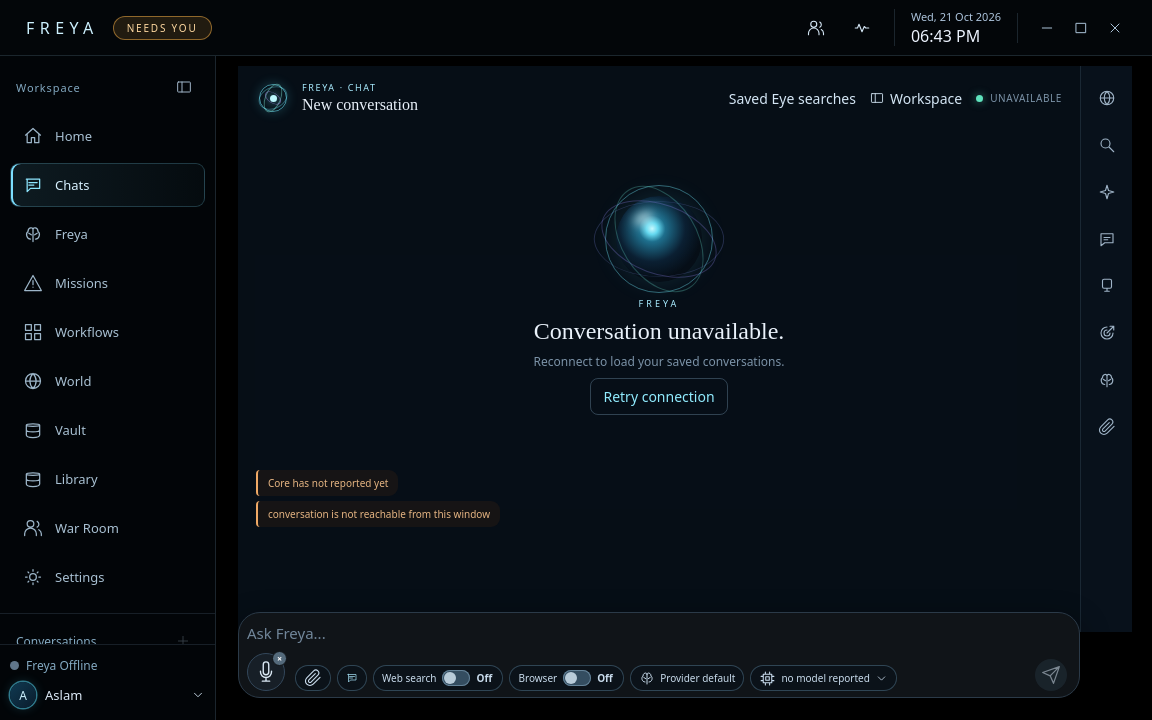
the shipping primary destinations › keeps chat draft and the eight-icon right rail across workspace changes
In the text box labelled "Ask Freya": (657, 633) [247,619,1067,647], type "Keep this thought"
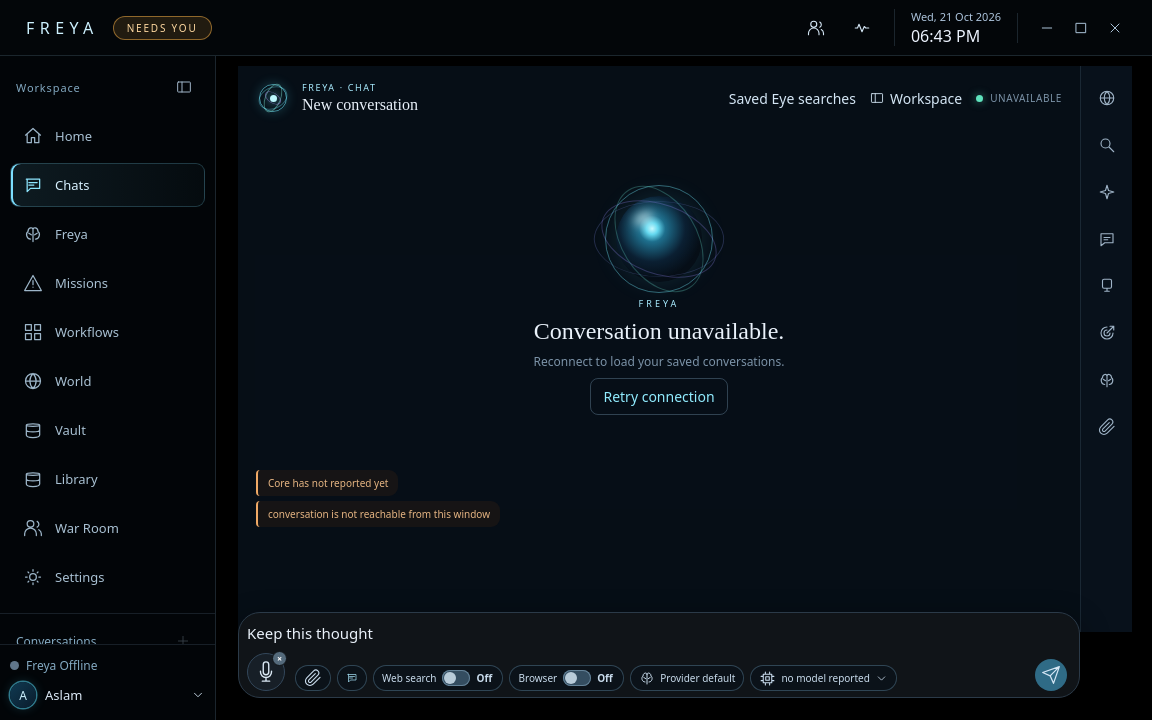
Expected: the tab named "Browser" is disabled, [1086,78,1126,118]
Click the button "Missions": click(108, 283) [10,261,205,305]
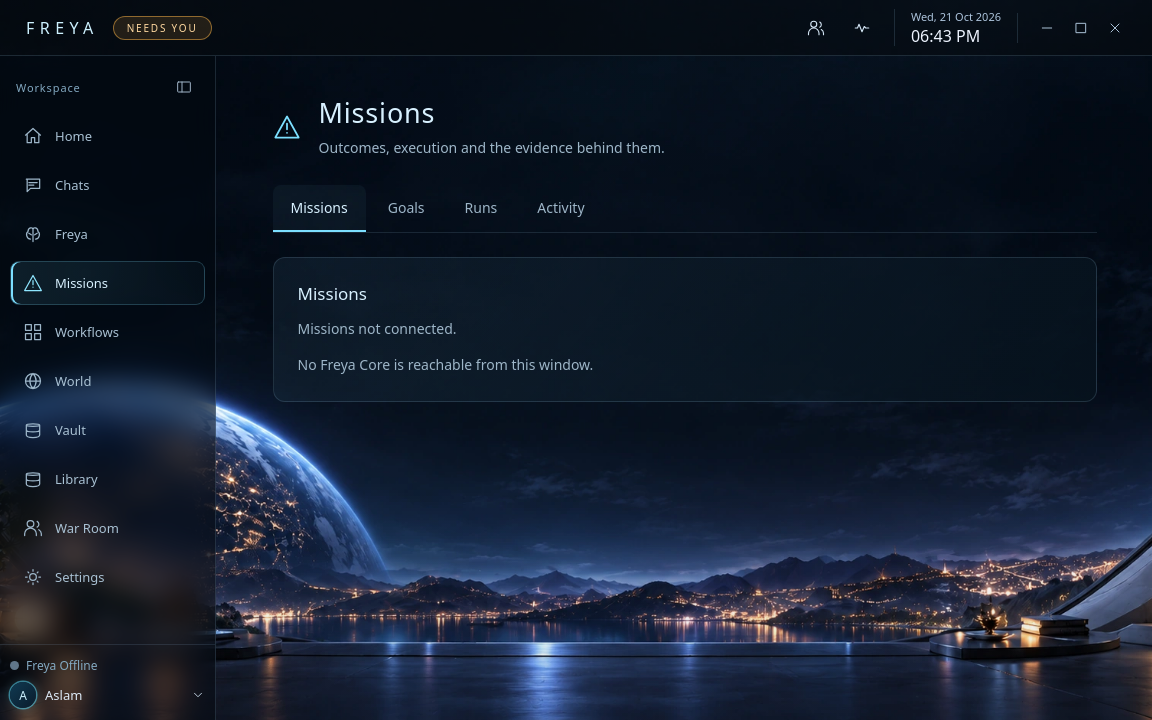
Expected: the field labelled "Ask Freya" is not shown
Click the button "Chats": click(108, 185) [10,163,205,207]
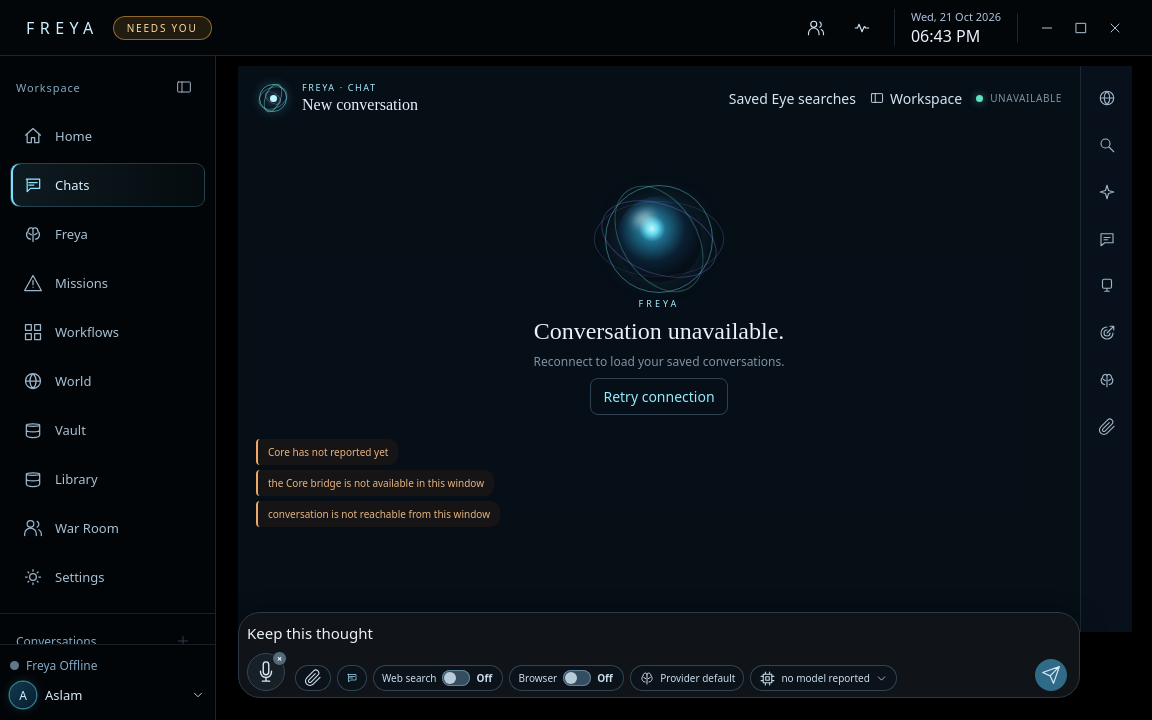
Expected: the number of tabs is 8
